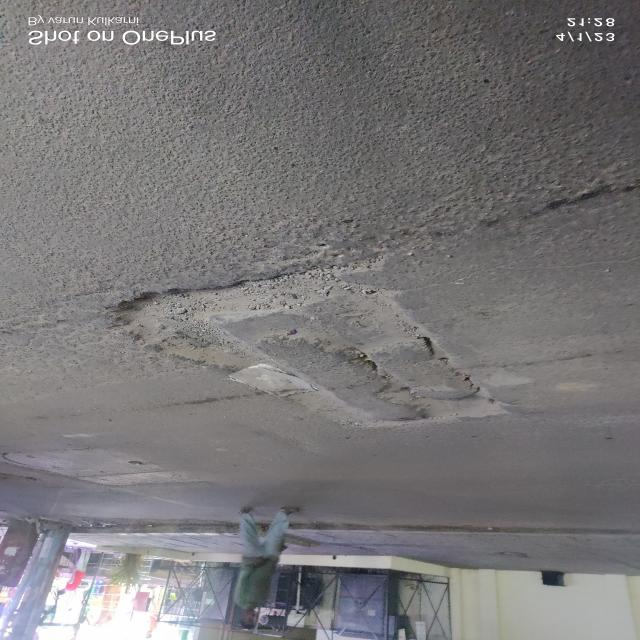potholes: (102, 258, 517, 435)
